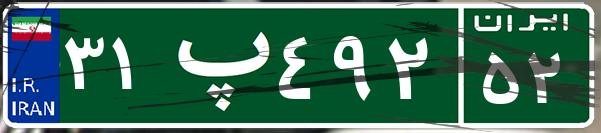1: (110, 28, 158, 105)
2: (385, 28, 445, 110), (525, 38, 570, 115)
3: (57, 26, 110, 107)
4: (273, 28, 330, 110)
5: (475, 38, 525, 113)
9: (330, 28, 385, 110)
پ: (158, 15, 273, 115)
